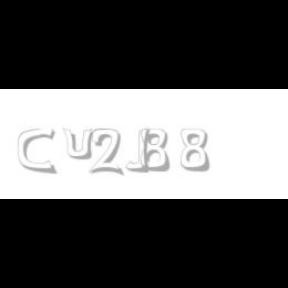2: (88, 128, 122, 176)
8: (140, 128, 170, 172), (180, 128, 210, 172)
C: (18, 128, 55, 174)
J: (124, 128, 150, 172)
u: (62, 128, 98, 160)
